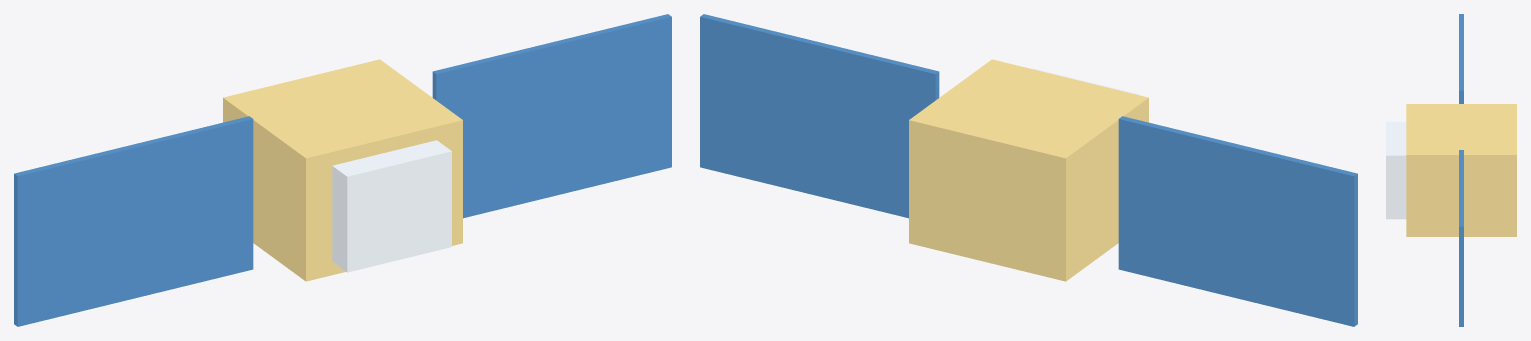
The model's file is satellite_demo.gltf.
3 views of the same model, side by side, from view 1: azimuth 30°, elevation 25°; view 2: azimuth 150°, elevation 25°; view 3: azimuth 270°, elevation 25° (orthographic). The views are drawn at different scales.
Bounding box in the file's own units: 5 × 1.1 × 1.3.
